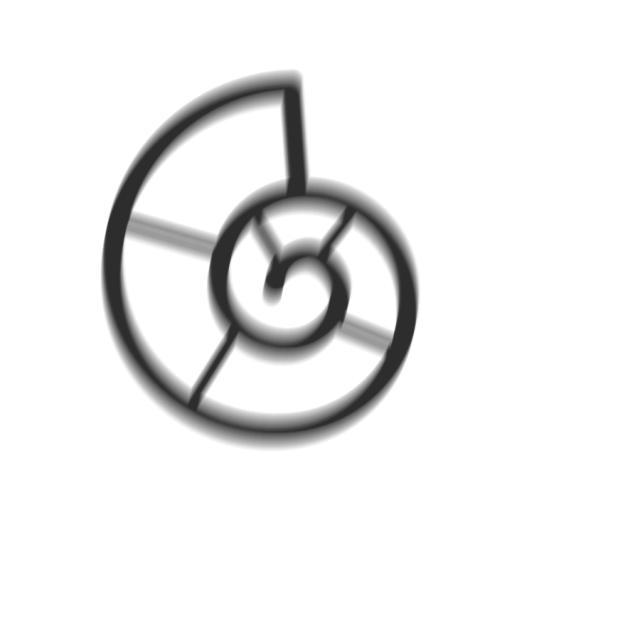fossil: (94, 64, 430, 458)
